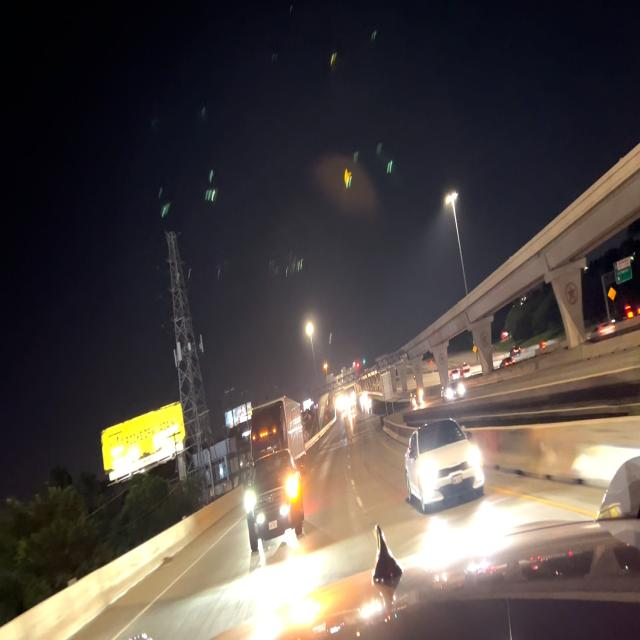back-of-sign: (323, 365, 359, 394), (376, 352, 396, 374)
